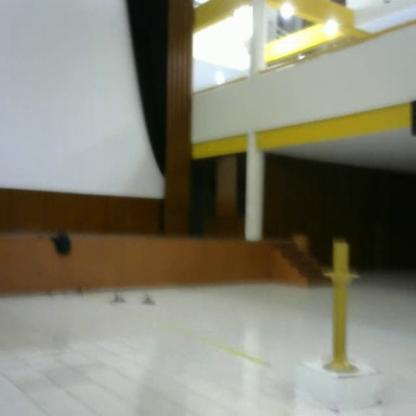pole: (316, 237, 364, 381)
